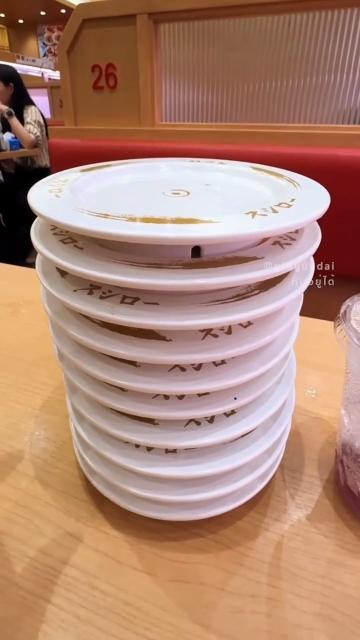janwhite: (32, 174, 325, 236), (77, 251, 293, 289), (72, 294, 290, 326), (89, 333, 271, 366), (99, 426, 244, 445), (120, 374, 251, 395), (126, 459, 269, 474), (128, 409, 257, 423), (143, 510, 246, 525), (133, 489, 261, 500)
